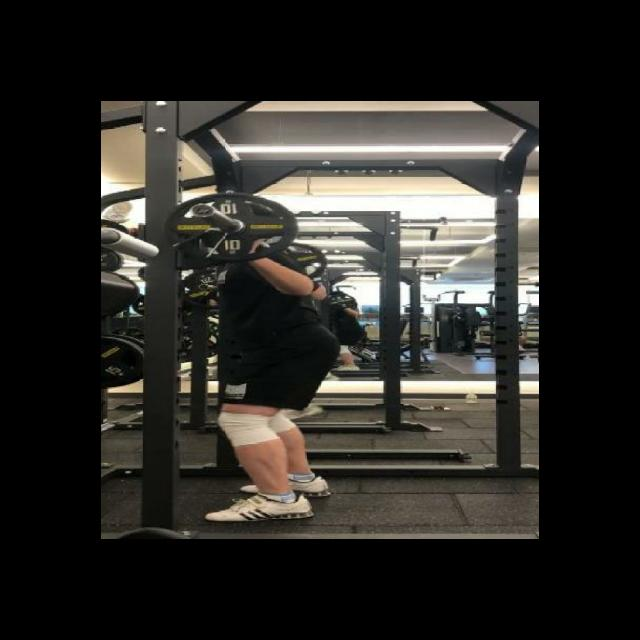barbell: (169, 185, 300, 267)
